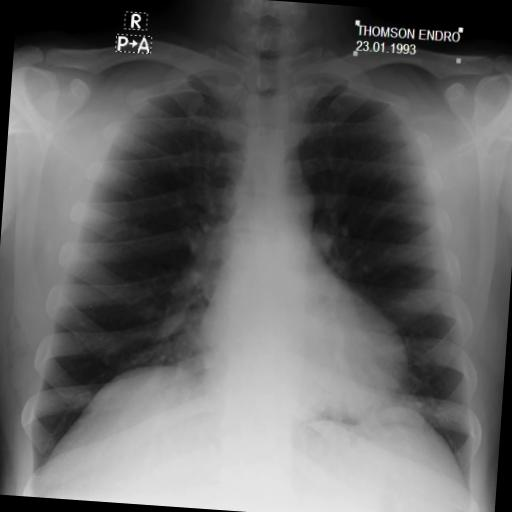kardiomegali: (182, 255, 422, 426)
